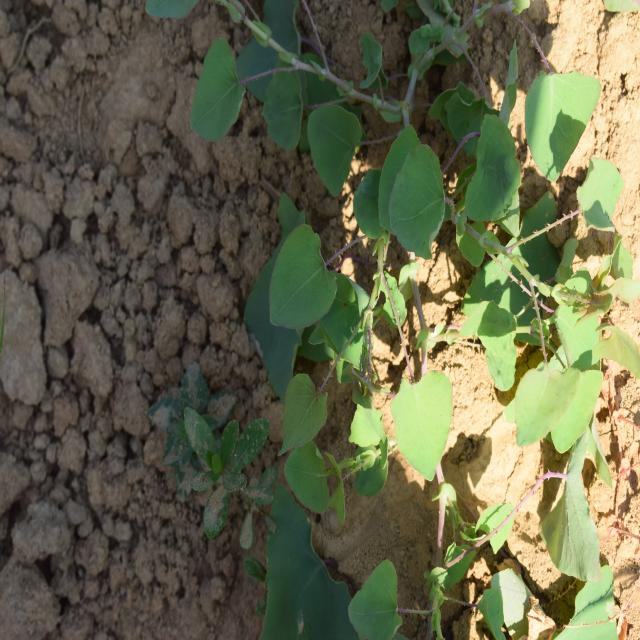Asiatic_Smartweed: (242, 135, 453, 485), (462, 60, 629, 441), (195, 0, 396, 164)
